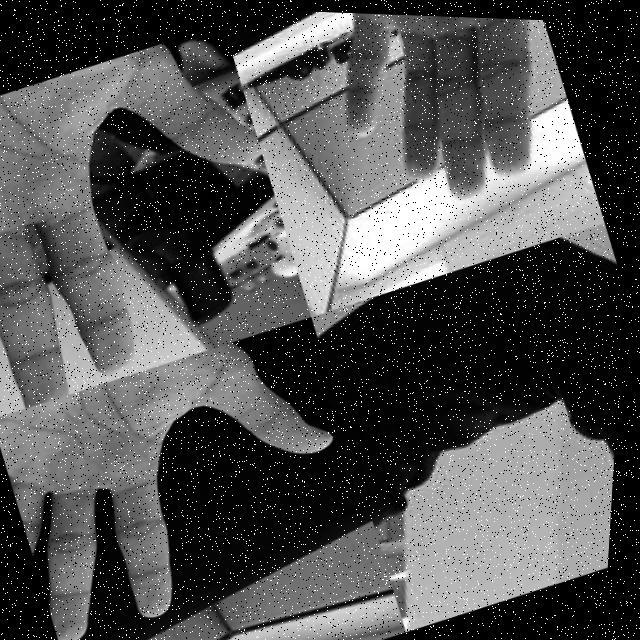no-gloves: (0, 15, 327, 428), (0, 307, 388, 640), (258, 8, 596, 248), (508, 412, 622, 586)
